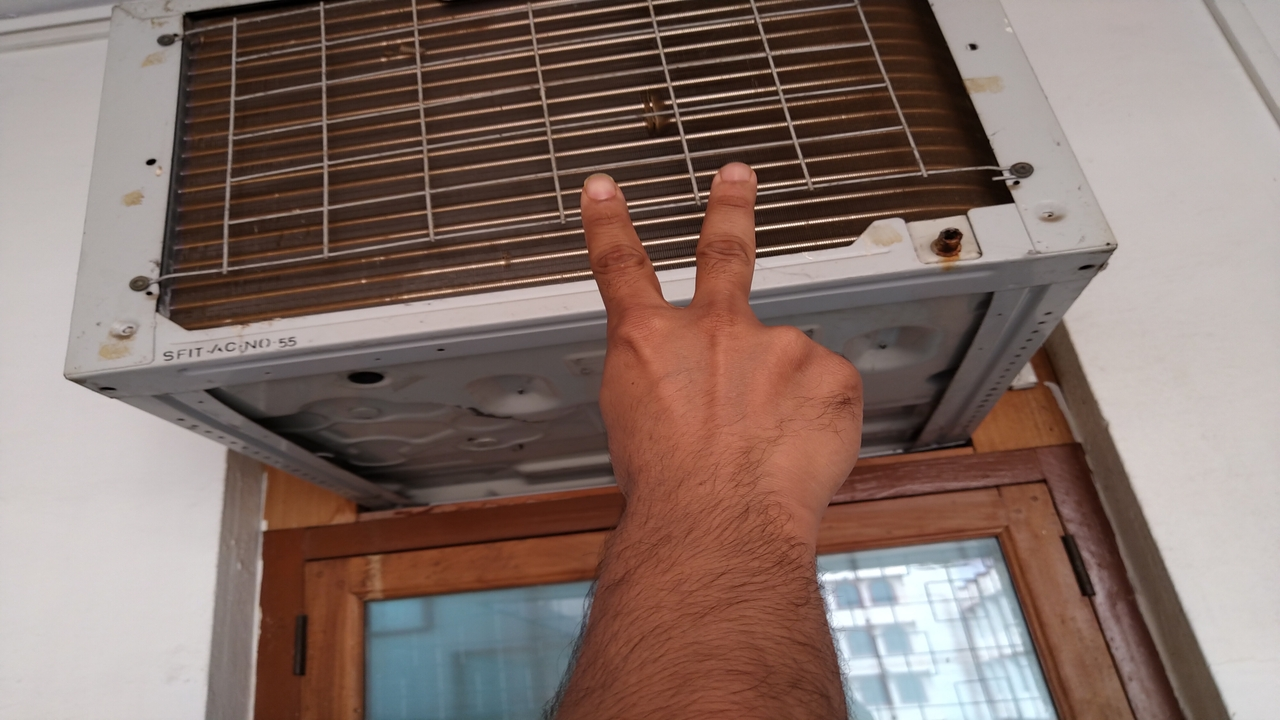fingertip: (702, 150, 766, 200), (574, 164, 630, 216)
